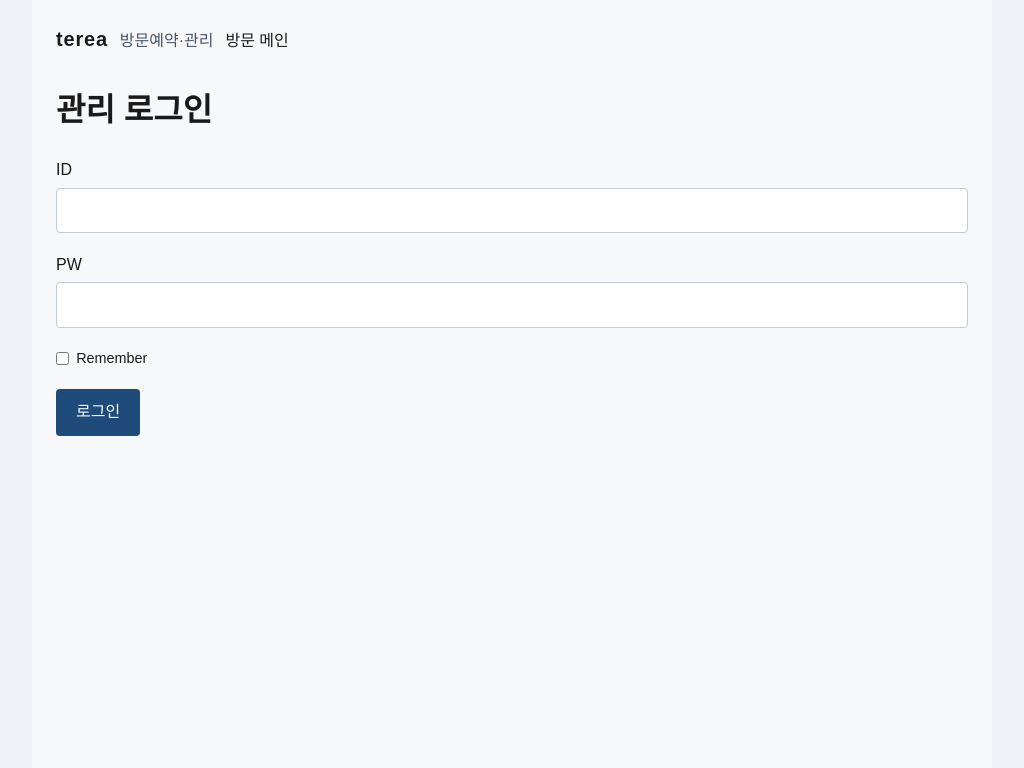
Test: S21: 방문 승인 목록 › 방문 승인 메뉴에서 신청 건을 볼 수 있다
This screenshot has width=1024, height=768.
Step 1. Type "admin" into the field labelled "ID" → (512, 210), box [56, 188, 968, 233]
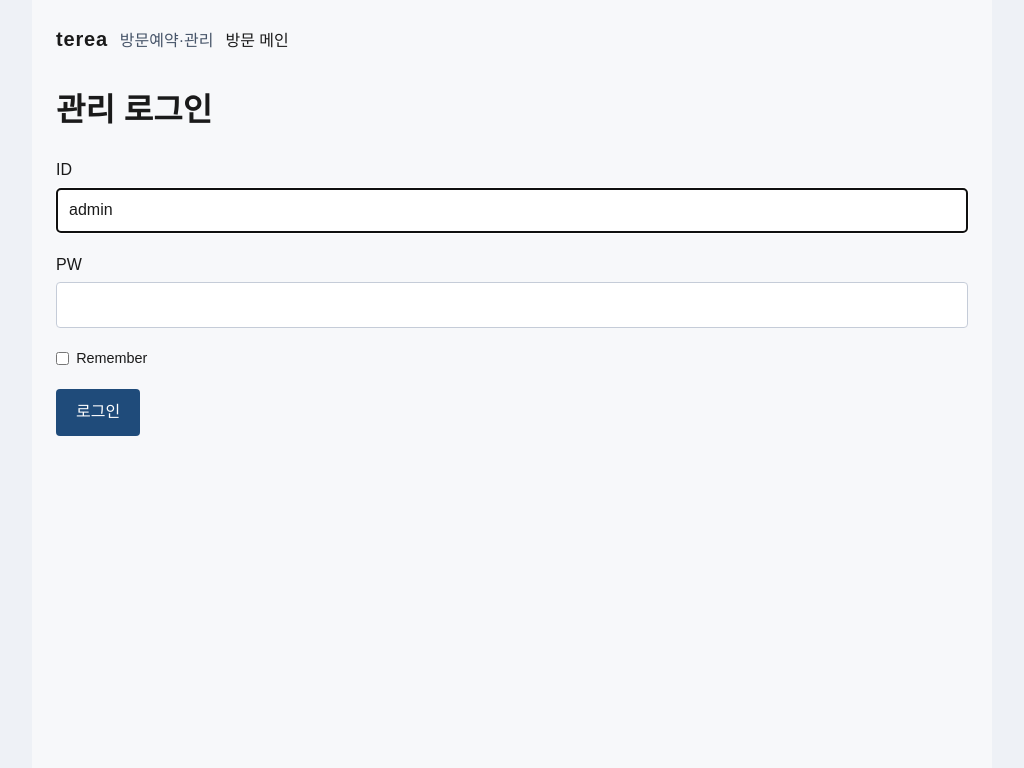
Step 2. Type "1234" into the password field labelled "PW" → (512, 305), box [56, 282, 968, 328]
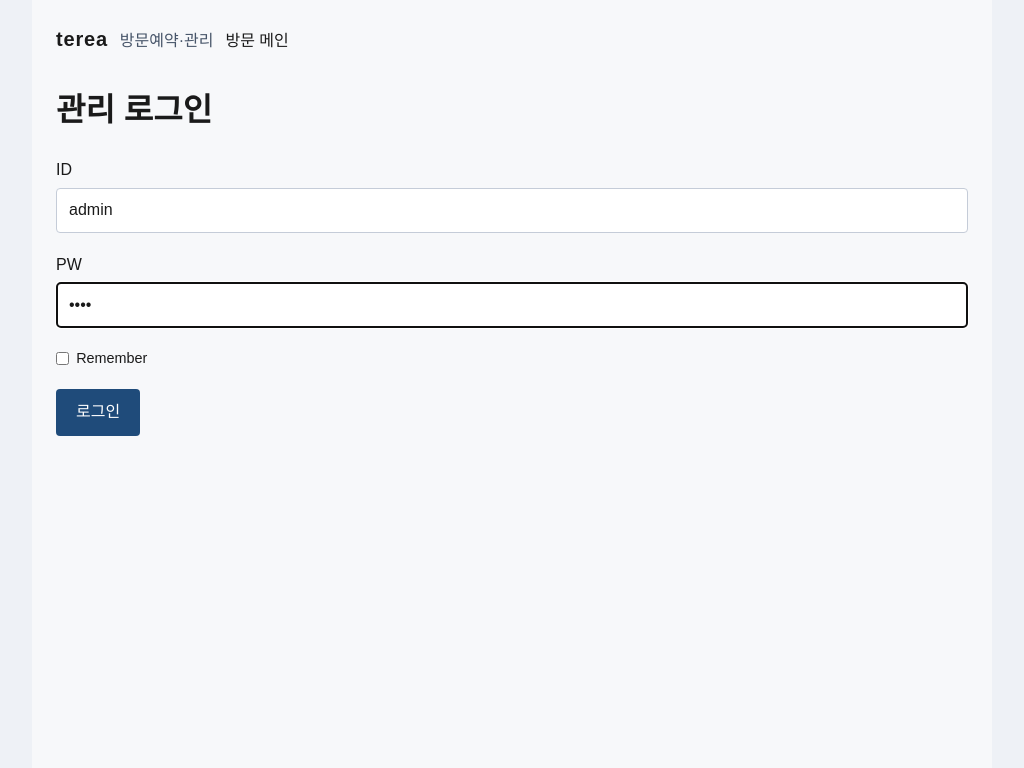
Step 3. Click the button "로그인" → (98, 412), box [56, 389, 140, 436]
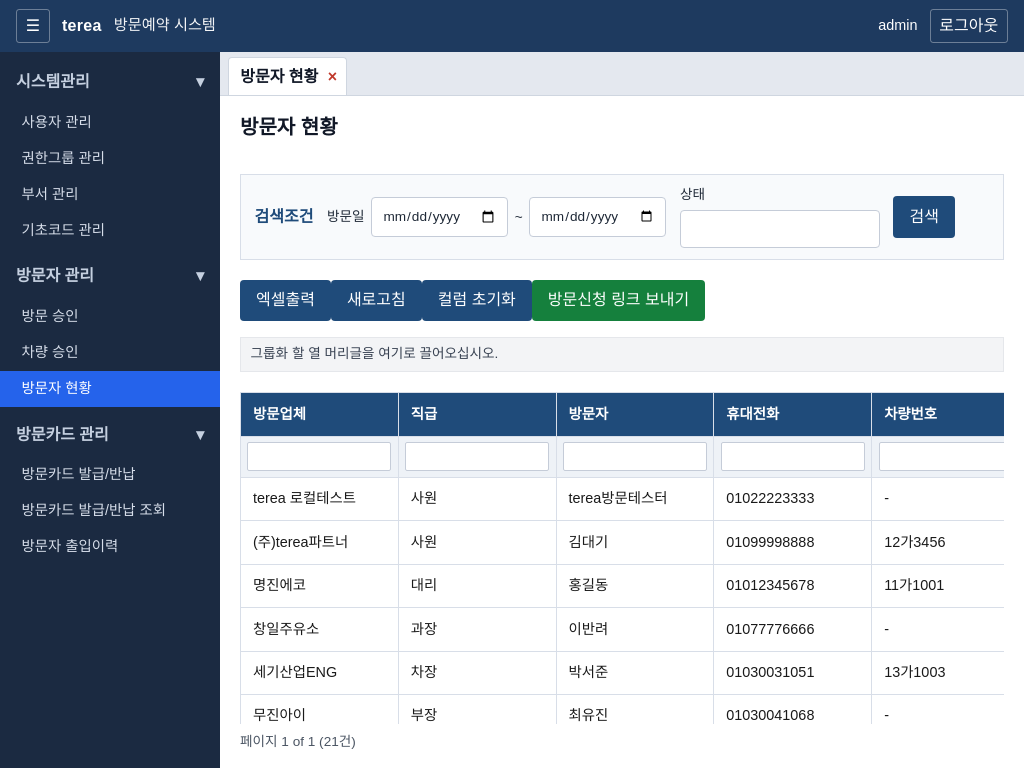
Step 4. Click the link "방문 승인" → (50, 316), box [22, 308, 79, 324]
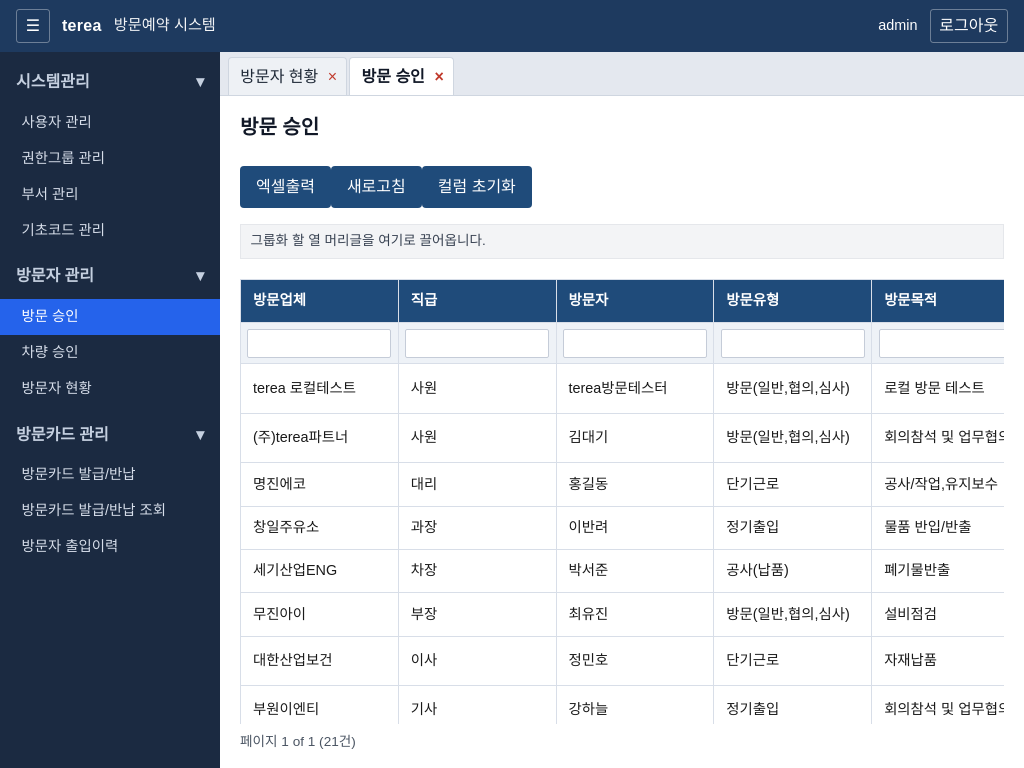
expect the text "김대기" is shown: met, box [556, 413, 714, 463]
expect the text "홍길동" is shown: met, box [556, 463, 714, 506]
expect the heading "방문 승인" is shown: met, box [240, 116, 319, 138]
